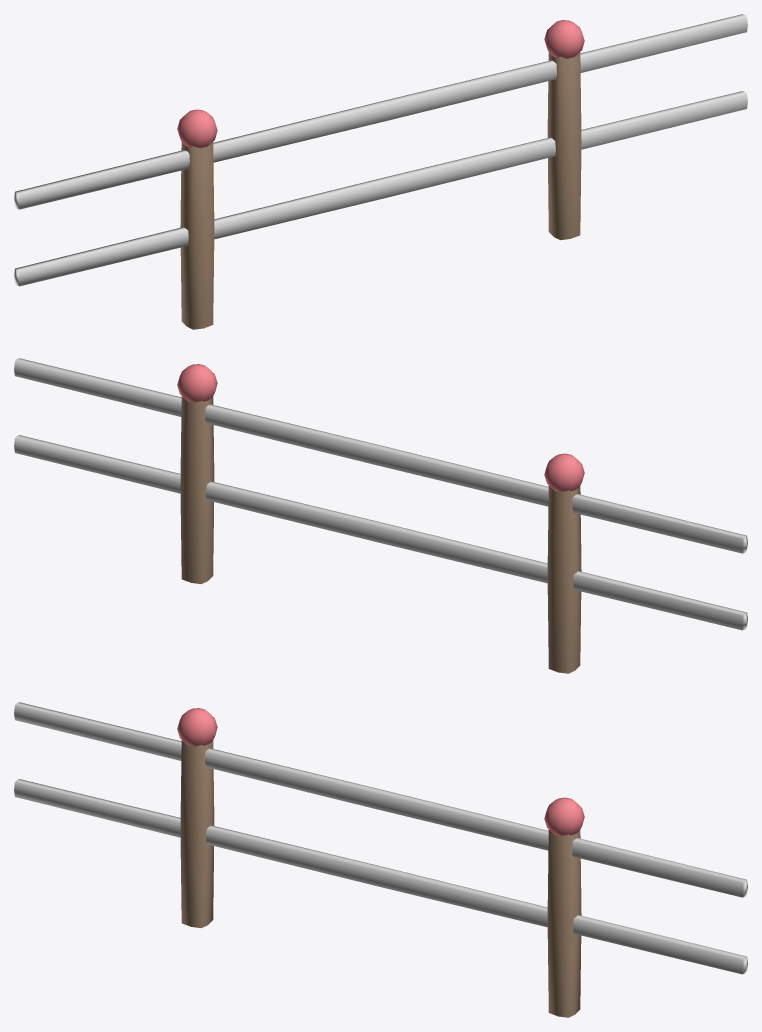
File: RockinRacewayFence.glb
3 renders of one model, top to bottom at view 1: azimuth 30°, elevation 25°; view 2: azimuth 150°, elevation 25°; view 3: azimuth 330°, elevation 25°, orthographic.
Visible parts, largest first — view 1: Rails, Posts, Caps; view 2: Rails, Posts, Caps; view 3: Rails, Posts, Caps.
Boxes of the visible parts, box(x1,y1,x2,y2) form: Rails: box(14, 14, 747, 286); Posts: box(180, 52, 581, 329); Caps: box(177, 20, 584, 148); Rails: box(14, 358, 747, 630); Posts: box(180, 396, 581, 673); Caps: box(177, 364, 584, 492); Rails: box(14, 702, 747, 974); Posts: box(180, 740, 581, 1017); Caps: box(177, 708, 584, 836).
Size of the model in its own units: 9.96 by 2.79 by 0.4565.
